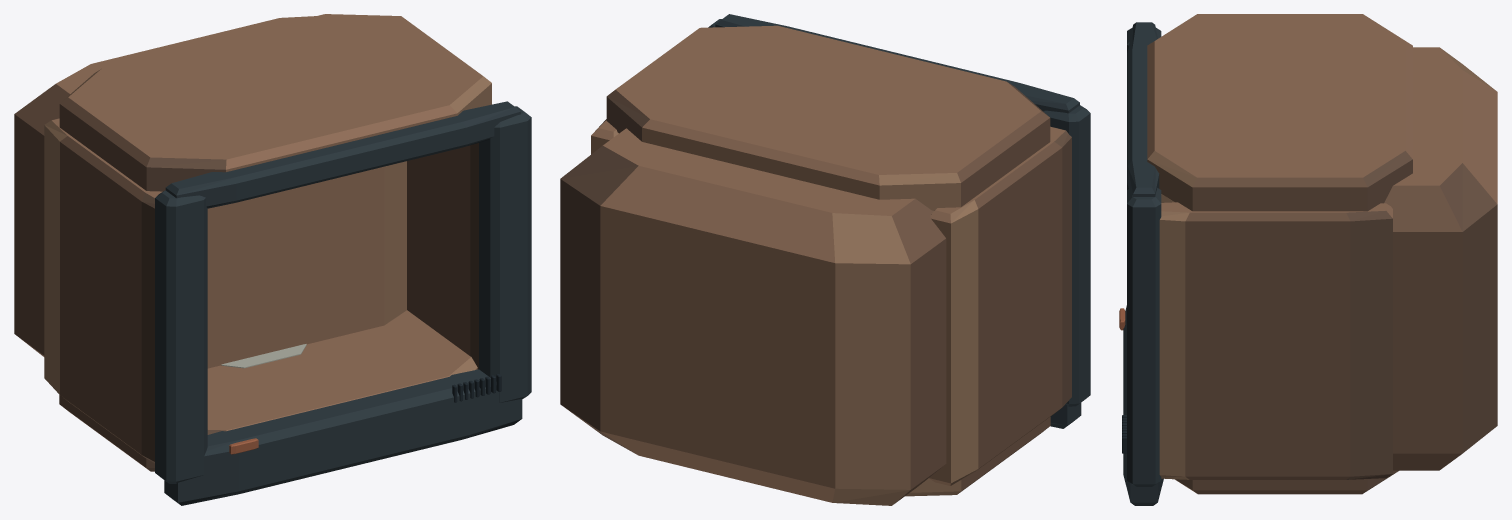
The model's file is electronics-v2.glb.
3 views of the same model, side by side, from view 1: azimuth 30°, elevation 25°; view 2: azimuth 150°, elevation 25°; view 3: azimuth 270°, elevation 25° (orthographic). The views are drawn at different scales.
Visible parts, largest first — view 1: MagnavoxCoque, PlayStation; view 2: MagnavoxCoque; view 3: MagnavoxCoque.
Part boxes in pixels (<box>): MagnavoxCoque: <box>14,14,531,505</box>; PlayStation: <box>221,344,306,368</box>; MagnavoxCoque: <box>560,14,1090,505</box>; MagnavoxCoque: <box>1119,14,1497,505</box>.
Size of the model in its own units: 0.6625 by 0.5651 by 0.5895.
